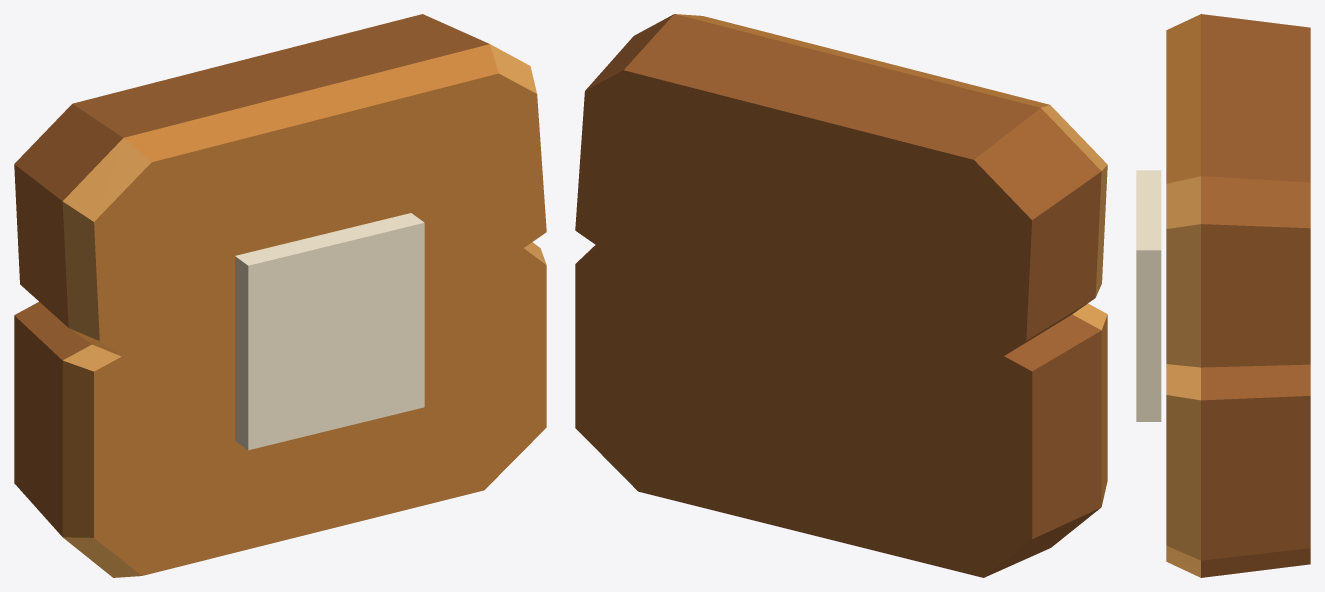
Rendered from Stop.fbx.
3 views of the same model, side by side, from view 1: azimuth 30°, elevation 25°; view 2: azimuth 150°, elevation 25°; view 3: azimuth 270°, elevation 25° (orthographic). The views are drawn at different scales.
Parts seen in each view (by area): view 1: Stone.003, Icon.004; view 2: Stone.003; view 3: Stone.003, Icon.004.
Boxes of the visible parts, left/top/right/bottom form: Stone.003: left=14, top=14, right=546, bottom=577; Icon.004: left=235, top=213, right=424, bottom=450; Stone.003: left=575, top=14, right=1107, bottom=577; Stone.003: left=1166, top=14, right=1310, bottom=577; Icon.004: left=1136, top=170, right=1161, bottom=421.
Size of the model in its own units: 0.103 by 0.091 by 0.035.
